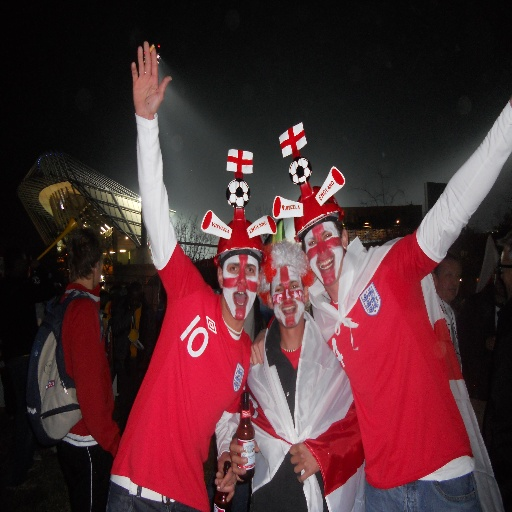hand: (118, 35, 170, 145), (228, 436, 260, 482), (287, 441, 320, 482), (214, 450, 236, 502), (249, 327, 266, 365)
